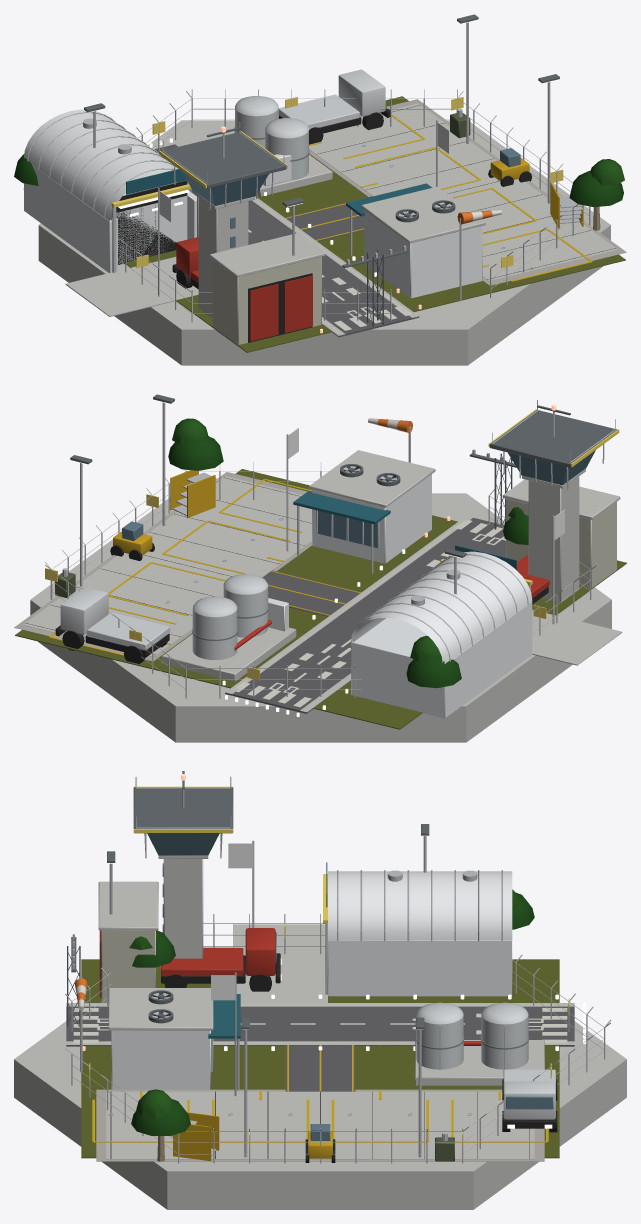
File: airfield.glb
3 renders of one model, top to bottom at view 1: azimuth 30°, elevation 25°; view 2: azimuth 150°, elevation 25°; view 3: azimuth 270°, elevation 25°, orthographic. The views are drawn at different scales.
Parts seen in each view (by area): view 1: wall_concrete, cladding, paint, metal, turf, asphalt, steel_dark, dark, leaf, glass, gravel, hazard (+2 smaller); view 2: wall_concrete, cladding, paint, asphalt, turf, metal, steel_dark, leaf, glass, dark, gravel, hazard (+1 smaller); view 3: wall_concrete, cladding, paint, turf, asphalt, metal, steel_dark, leaf, gravel, dark, glass, banner (+1 smaller).
Boxes of the visible parts, box(x1,y1,x2,y2) form: wall_concrete: box(38, 103, 617, 365); cladding: box(24, 109, 482, 344); paint: box(126, 69, 592, 341); metal: box(27, 22, 590, 322); turf: box(23, 96, 625, 352); asphalt: box(154, 144, 419, 337); steel_dark: box(84, 14, 559, 326); dark: box(116, 105, 615, 342); leaf: box(14, 154, 624, 206); glass: box(182, 148, 520, 247); gravel: box(309, 99, 626, 285); hazard: box(111, 97, 563, 268); wall_concrete: box(23, 450, 622, 742); cladding: box(268, 474, 616, 718); paint: box(48, 418, 549, 707); asphalt: box(225, 518, 505, 713); turf: box(15, 469, 626, 729); metal: box(45, 400, 615, 698); steel_dark: box(70, 394, 617, 557); leaf: box(168, 418, 528, 688); glass: box(122, 450, 595, 547); dark: box(25, 468, 548, 663); gravel: box(14, 472, 311, 661); hazard: box(45, 409, 619, 680); wall_concrete: box(14, 855, 626, 1209); cladding: box(101, 871, 512, 1089); paint: box(73, 862, 567, 1161); turf: box(81, 959, 559, 1158); asphalt: box(66, 1006, 574, 1091); metal: box(65, 776, 610, 1163); steel_dark: box(67, 771, 429, 1029); leaf: box(129, 889, 534, 1135); gravel: box(96, 1089, 544, 1161); dark: box(100, 931, 557, 1162); glass: box(147, 833, 553, 1140); banner: box(211, 843, 253, 1000).
Size of the model in its own units: 23.7 by 10.46 by 24.6.
